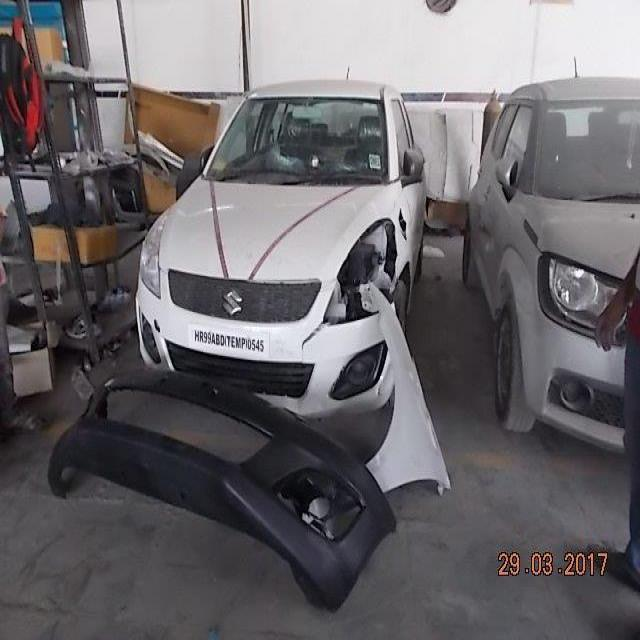damaged: (296, 206, 409, 348)
